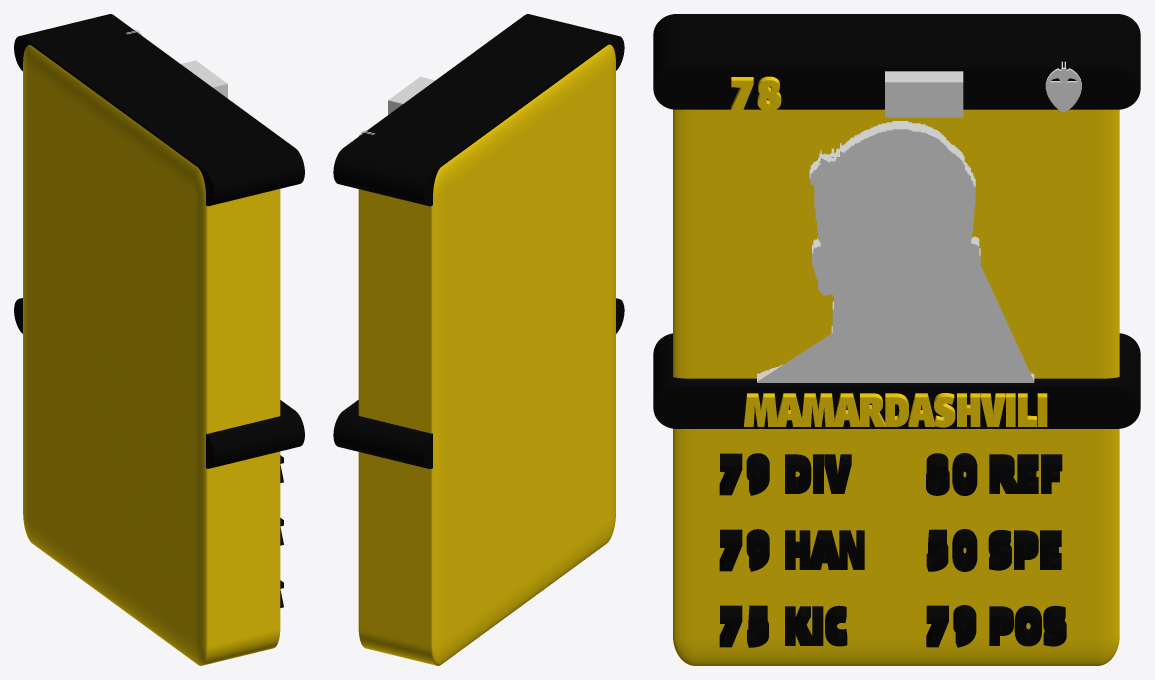
Rendered from MAMARDASHVILI.fbx.
3 renders of one model, left to right at view 1: azimuth 30°, elevation 25°; view 2: azimuth 150°, elevation 25°; view 3: azimuth 270°, elevation 25°, orthographic. The views are drawn at different scales.
Visible parts, largest first — view 1: Куб, Цилиндр.002, Цилиндр.001, Куб.001; view 2: Куб, Цилиндр.002, Цилиндр.001, Куб.001; view 3: Куб, Плоскость, Цилиндр.002, Цилиндр.001, Текст.006, Куб.001, Текст, Текст.005, Текст.003, Текст.004, Текст.001, Текст.002 (+8 smaller).
Part boxes in pixels (x1,y1,x2,y2): Куб: (23, 45, 280, 665); Цилиндр.002: (14, 14, 304, 206); Цилиндр.001: (14, 298, 304, 468); Куб.001: (181, 60, 227, 98); Куб: (358, 44, 615, 665); Цилиндр.002: (333, 14, 624, 206); Цилиндр.001: (333, 298, 624, 468); Куб.001: (388, 76, 435, 114); Куб: (673, 109, 1119, 665); Плоскость: (757, 121, 1034, 382); Цилиндр.002: (653, 14, 1140, 109); Цилиндр.001: (653, 333, 1140, 428); Текст.006: (744, 393, 1047, 427); Куб.001: (885, 71, 963, 117); Текст: (785, 530, 864, 569); Текст.005: (989, 605, 1066, 646); Текст.003: (989, 454, 1062, 493); Текст.004: (988, 530, 1061, 570); Текст.001: (785, 454, 851, 493); Текст.002: (785, 605, 847, 646).
Bounding box in the file's own units: 280 × 1203 × 872.
